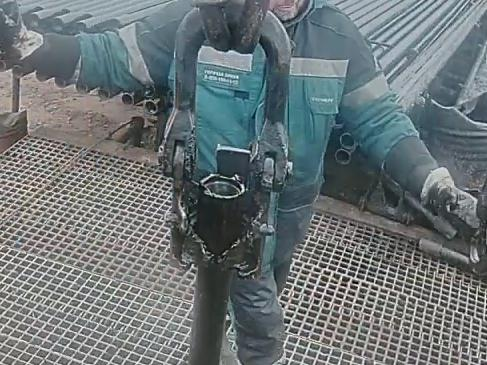gloves: (419, 166, 480, 238)
vest: (165, 8, 369, 190)
